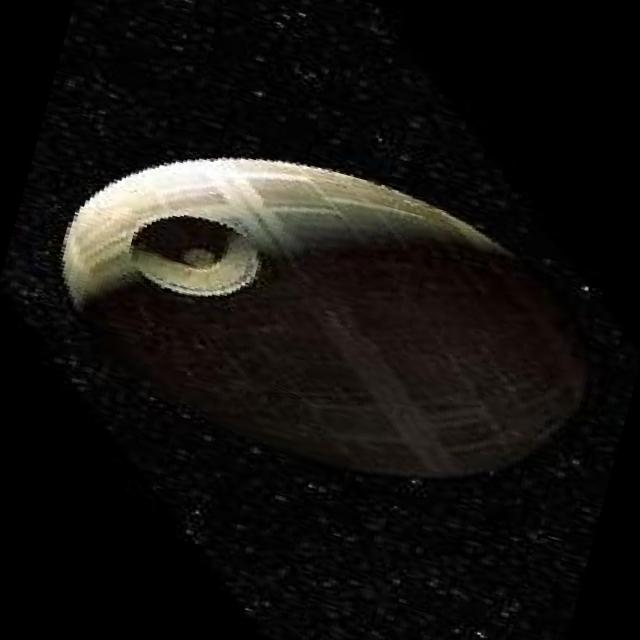Death Star: (12, 99, 630, 530)
